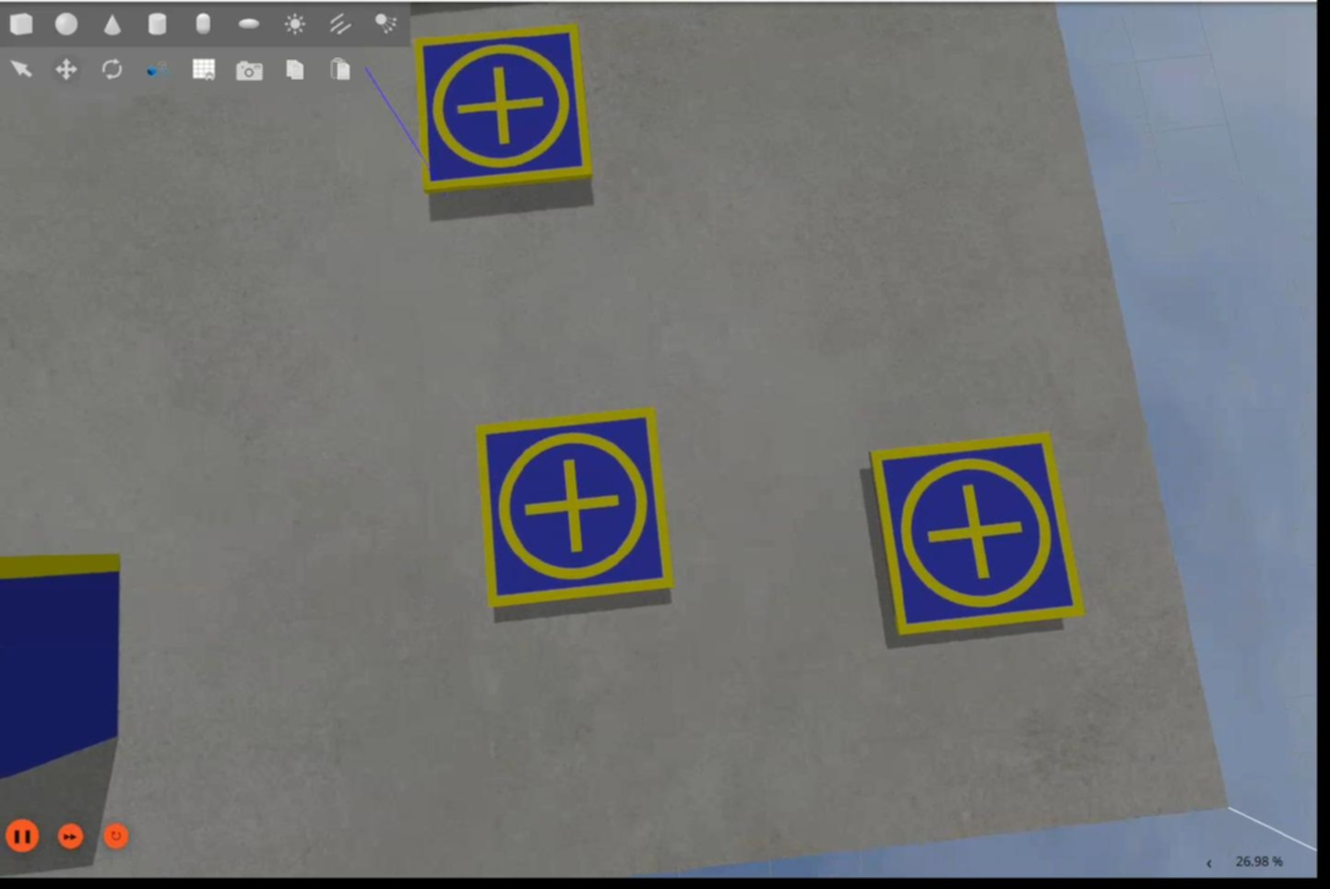small_base: (868, 433, 1088, 637), (475, 406, 678, 610), (413, 27, 597, 196)
